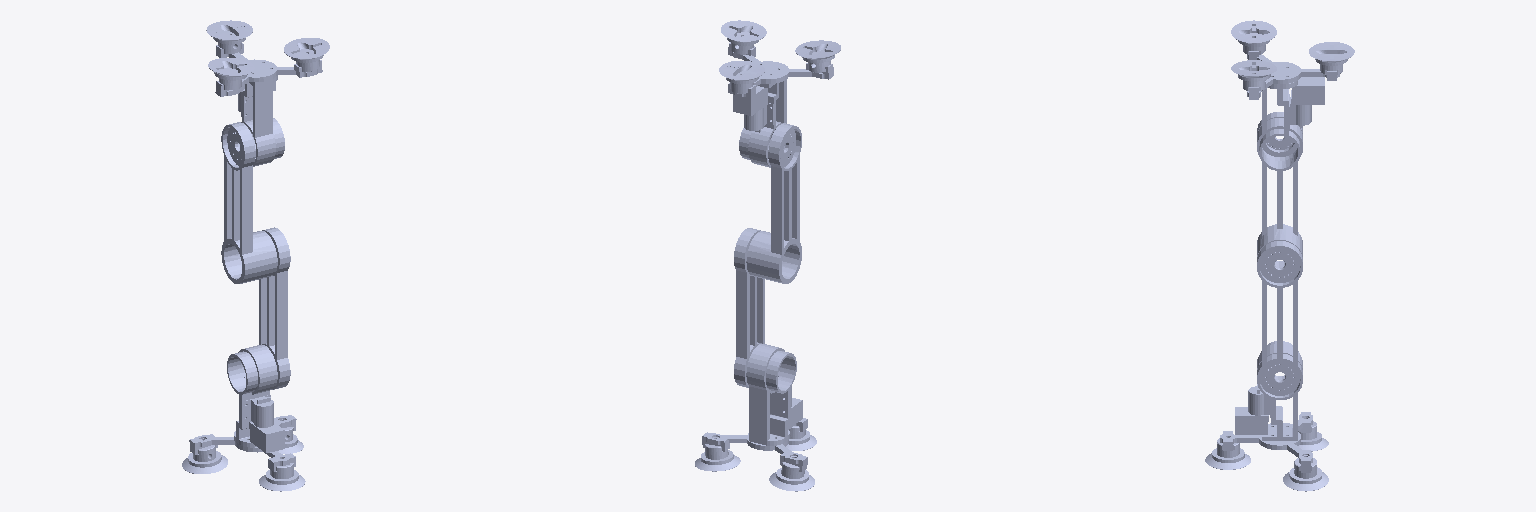
The robot description file, URDF, robot "bigmama0326":
<?xml version="1.0" encoding="utf-8"?>
<!-- This URDF was automatically created by SolidWorks to URDF Exporter! Originally created by [author] ([email redacted]) 
     Commit Version: 1.6.0-1-g15f4949  Build Version: 1.6.7594.29634
     For more information, please see http://wiki.ros.org/sw_urdf_exporter -->
<robot
  name="bigmama0326">
  <link
    name="Link_0">
    <inertial>
      <origin
        xyz="-0.0037749 -0.0092404 0.032374"
        rpy="0 0 0" />
      <mass
        value="0.7735" />
      <inertia
        ixx="0.0014889"
        ixy="-1.2947E-05"
        ixz="1.4235E-05"
        iyy="0.0014365"
        iyz="-7.5232E-06"
        izz="0.0010196" />
    </inertial>
    <visual>
      <origin
        xyz="0 0 0"
        rpy="0 0 0" />
      <geometry>
        <mesh
          filename="package://bigmama0326/meshes/Link_0.STL" />
      </geometry>
      <material
        name="">
        <color
          rgba="0.79216 0.81961 0.93333 1" />
      </material>
    </visual>
    <collision>
      <origin
        xyz="0 0 0"
        rpy="0 0 0" />
      <geometry>
        <mesh
          filename="package://bigmama0326/meshes/Link_0.STL" />
      </geometry>
    </collision>
  </link>
  <link
    name="Link_1">
    <inertial>
      <origin
        xyz="-2.2204E-16 0.12 0.014813"
        rpy="0 0 0" />
      <mass
        value="0.28238" />
      <inertia
        ixx="0.0027445"
        ixy="1.919E-20"
        ixz="1.2355E-22"
        iyy="0.00019508"
        iyz="1.9181E-20"
        izz="0.0029159" />
    </inertial>
    <visual>
      <origin
        xyz="0 0 0"
        rpy="0 0 0" />
      <geometry>
        <mesh
          filename="package://bigmama0326/meshes/Link_1.STL" />
      </geometry>
      <material
        name="">
        <color
          rgba="0.79216 0.81961 0.93333 1" />
      </material>
    </visual>
    <collision>
      <origin
        xyz="0 0 0"
        rpy="0 0 0" />
      <geometry>
        <mesh
          filename="package://bigmama0326/meshes/Link_1.STL" />
      </geometry>
    </collision>
  </link>
  <joint
    name="Joint_1"
    type="revolute">
    <origin
      xyz="0.022 0 0.155"
      rpy="1.5708 0 1.5708" />
    <parent
      link="Link_0" />
    <child
      link="Link_1" />
    <axis
      xyz="0 0 -1" />
    <limit
      lower="-3.14"
      upper="3.14"
      effort="100"
      velocity="0.25" />
  </joint>
  <link
    name="Link_2">
    <inertial>
      <origin
        xyz="1.1102E-16 0.098184 -0.051898"
        rpy="0 0 0" />
      <mass
        value="0.34516" />
      <inertia
        ixx="0.0036332"
        ixy="3.4028E-18"
        ixz="-4.3859E-19"
        iyy="0.00034405"
        iyz="0.00024115"
        izz="0.0037914" />
    </inertial>
    <visual>
      <origin
        xyz="0 0 0"
        rpy="0 0 0" />
      <geometry>
        <mesh
          filename="package://bigmama0326/meshes/Link_2.STL" />
      </geometry>
      <material
        name="">
        <color
          rgba="0.79216 0.81961 0.93333 1" />
      </material>
    </visual>
    <collision>
      <origin
        xyz="0 0 0"
        rpy="0 0 0" />
      <geometry>
        <mesh
          filename="package://bigmama0326/meshes/Link_2.STL" />
      </geometry>
    </collision>
  </link>
  <joint
    name="Joint_2"
    type="revolute">
    <origin
      xyz="0 0.24 0"
      rpy="0 0 0" />
    <parent
      link="Link_1" />
    <child
      link="Link_2" />
    <axis
      xyz="0 0 -1" />
    <limit
      lower="-3.14"
      upper="3.14"
      effort="100"
      velocity="0.25" />
  </joint>
  <link
    name="Link_3">
    <inertial>
      <origin
        xyz="0.018256 0.077688 0.029219"
        rpy="0 0 0" />
      <mass
        value="0.40524" />
      <inertia
        ixx="0.0010067"
        ixy="-1.0212E-05"
        ixz="-1.2958E-05"
        iyy="0.00027741"
        iyz="1.4235E-05"
        izz="0.0011025" />
    </inertial>
    <visual>
      <origin
        xyz="0 0 0"
        rpy="0 0 0" />
      <geometry>
        <mesh
          filename="package://bigmama0326/meshes/Link_3.STL" />
      </geometry>
      <material
        name="">
        <color
          rgba="0.79216 0.81961 0.93333 1" />
      </material>
    </visual>
    <collision>
      <origin
        xyz="0 0 0"
        rpy="0 0 0" />
      <geometry>
        <mesh
          filename="package://bigmama0326/meshes/Link_3.STL" />
      </geometry>
    </collision>
  </link>
  <joint
    name="Joint_3"
    type="revolute">
    <origin
      xyz="0 0.24 -0.0442"
      rpy="0 0 0" />
    <parent
      link="Link_2" />
    <child
      link="Link_3" />
    <axis
      xyz="0 0 1" />
    <limit
      lower="-3.14"
      upper="3.14"
      effort="100"
      velocity="0.25" />
  </joint>
  <link
    name="Link_4">
    <inertial>
      <origin
        xyz="-0.00068061 -1.6889E-05 -0.027113"
        rpy="0 0 0" />
      <mass
        value="0.36818" />
      <inertia
        ixx="0.00042947"
        ixy="1.2889E-08"
        ixz="-2.6746E-06"
        iyy="0.00038602"
        iyz="7.1187E-09"
        izz="0.00074217" />
    </inertial>
    <visual>
      <origin
        xyz="0 0 0"
        rpy="0 0 0" />
      <geometry>
        <mesh
          filename="package://bigmama0326/meshes/Link_4.STL" />
      </geometry>
      <material
        name="">
        <color
          rgba="0.79216 0.81961 0.93333 1" />
      </material>
    </visual>
    <collision>
      <origin
        xyz="0 0 0"
        rpy="0 0 0" />
      <geometry>
        <mesh
          filename="package://bigmama0326/meshes/Link_4.STL" />
      </geometry>
    </collision>
  </link>
  <joint
    name="Joint_4"
    type="revolute">
    <origin
      xyz="0 0.145 0.022"
      rpy="1.5708 0 0" />
    <parent
      link="Link_3" />
    <child
      link="Link_4" />
    <axis
      xyz="0 0 -1" />
    <limit
      lower="-0.0001"
      upper="0.0001"
      effort="0.0001"
      velocity="0.0001" />
  </joint>
  <link
    name="Link_innerfinger">
    <inertial>
      <origin
        xyz="-0.0078755 1.1102E-16 0.0038101"
        rpy="0 0 0" />
      <mass
        value="0.0015127" />
      <inertia
        ixx="3.1842E-08"
        ixy="9.4504E-23"
        ixz="-1.1024E-08"
        iyy="8.2988E-08"
        iyz="1.3059E-23"
        izz="9.3901E-08" />
    </inertial>
    <visual>
      <origin
        xyz="0 0 0"
        rpy="0 0 0" />
      <geometry>
        <mesh
          filename="package://bigmama0326/meshes/Link_innerfinger.STL" />
      </geometry>
      <material
        name="">
        <color
          rgba="0.79216 0.81961 0.93333 1" />
      </material>
    </visual>
    <collision>
      <origin
        xyz="0 0 0"
        rpy="0 0 0" />
      <geometry>
        <mesh
          filename="package://bigmama0326/meshes/Link_innerfinger.STL" />
      </geometry>
    </collision>
  </link>
  <joint
    name="Joint_innerfinger"
    type="prismatic">
    <origin
      xyz="0.1 -0.01 -0.05"
      rpy="0 0 1.5708" />
    <parent
      link="Link_4" />
    <child
      link="Link_innerfinger" />
    <axis
      xyz="1 0 0" />
    <limit
      lower="-0.01"
      upper="0.01"
      effort="50"
      velocity="0.01" />
  </joint>
  <link
    name="Link_exterfinger">
    <inertial>
      <origin
        xyz="-0.0078755 0 0.0038101"
        rpy="0 0 0" />
      <mass
        value="0.0015127" />
      <inertia
        ixx="3.1842E-08"
        ixy="-2.0266E-22"
        ixz="-1.1024E-08"
        iyy="8.2988E-08"
        iyz="-2.3189E-23"
        izz="9.3901E-08" />
    </inertial>
    <visual>
      <origin
        xyz="0 0 0"
        rpy="0 0 0" />
      <geometry>
        <mesh
          filename="package://bigmama0326/meshes/Link_exterfinger.STL" />
      </geometry>
      <material
        name="">
        <color
          rgba="0.79216 0.81961 0.93333 1" />
      </material>
    </visual>
    <collision>
      <origin
        xyz="0 0 0"
        rpy="0 0 0" />
      <geometry>
        <mesh
          filename="package://bigmama0326/meshes/Link_exterfinger.STL" />
      </geometry>
    </collision>
  </link>
  <joint
    name="Joint_exterfinger"
    type="prismatic">
    <origin
      xyz="0.1 0.01 -0.05"
      rpy="0 0 -1.5708" />
    <parent
      link="Link_4" />
    <child
      link="Link_exterfinger" />
    <axis
      xyz="-1 0 0" />
    <limit
      lower="-0.01"
      upper="0.01"
      effort="50"
      velocity="0.01" />
  </joint>
</robot>

--- Render facts (derived) ---
Views: 3 orthographic renders of the robot side by side, from view 1: azimuth 30°, elevation 25°; view 2: azimuth 150°, elevation 25°; view 3: azimuth 270°, elevation 25°.
Model bigmama0326 with 7 links and 6 joints (4 revolute, 2 prismatic), rooted at Link_0, posed every joint at zero.
Links seen in each view (by area): view 1: Link_0, Link_2, Link_4, Link_1, Link_3; view 2: Link_0, Link_2, Link_4, Link_1, Link_3; view 3: Link_0, Link_1, Link_4, Link_3, Link_2.
Link boxes in pixels (x1,y1,x2,y2): Link_0: (182,344,305,491); Link_2: (221,122,277,283); Link_4: (206,20,329,96); Link_1: (259,227,290,389); Link_3: (238,75,284,166); Link_0: (695,344,816,491); Link_2: (746,123,801,283); Link_4: (719,20,840,98); Link_1: (734,228,764,387); Link_3: (733,80,786,167); Link_0: (1205,341,1328,491); Link_1: (1257,241,1302,399); Link_4: (1231,20,1354,99); Link_3: (1257,77,1324,170); Link_2: (1257,112,1302,267).
Bounding box of the posed robot: 0.2553 × 0.289 × 0.8854 m (x, y, z).
Meshes: 7 distinct files referenced, 7 mesh visuals loaded (7 binary STL).
